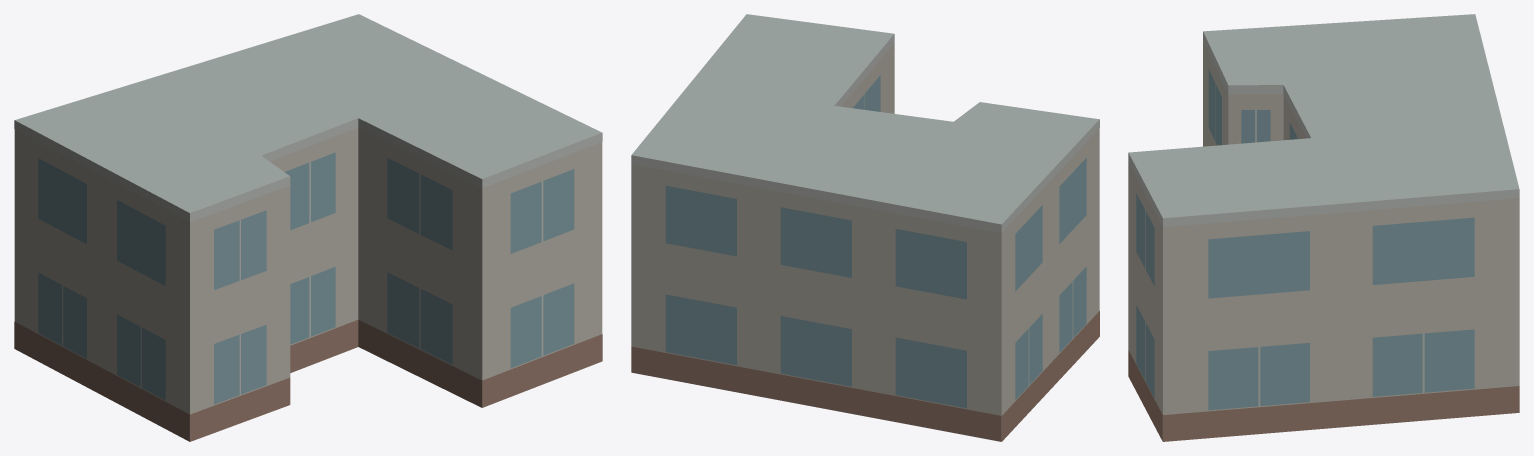
Rendered from survey-upis-32763576.glb.
3 views of the same model, side by side, from view 1: azimuth 30°, elevation 25°; view 2: azimuth 150°, elevation 25°; view 3: azimuth 270°, elevation 25° (orthographic). The views are drawn at different scales.
Parts seen in each view (by area): view 1: survey-upis-32763576.tmp; view 2: survey-upis-32763576.tmp; view 3: survey-upis-32763576.tmp.
Boxes of the visible parts, box(x1,y1,x2,y2) form: survey-upis-32763576.tmp: box(14, 14, 602, 441); survey-upis-32763576.tmp: box(631, 14, 1099, 441); survey-upis-32763576.tmp: box(1128, 14, 1519, 441).
Bounding box in the file's own units: 11.96 × 6.1 × 9.69.
